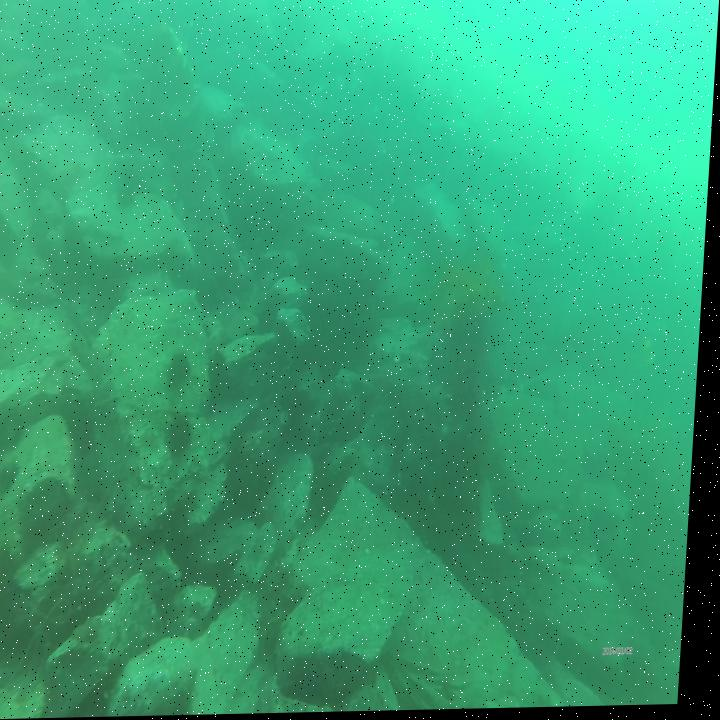echinus: (166, 345, 201, 395), (168, 415, 200, 461), (0, 457, 29, 497), (114, 174, 141, 212)
holothurian: (66, 321, 114, 389)
